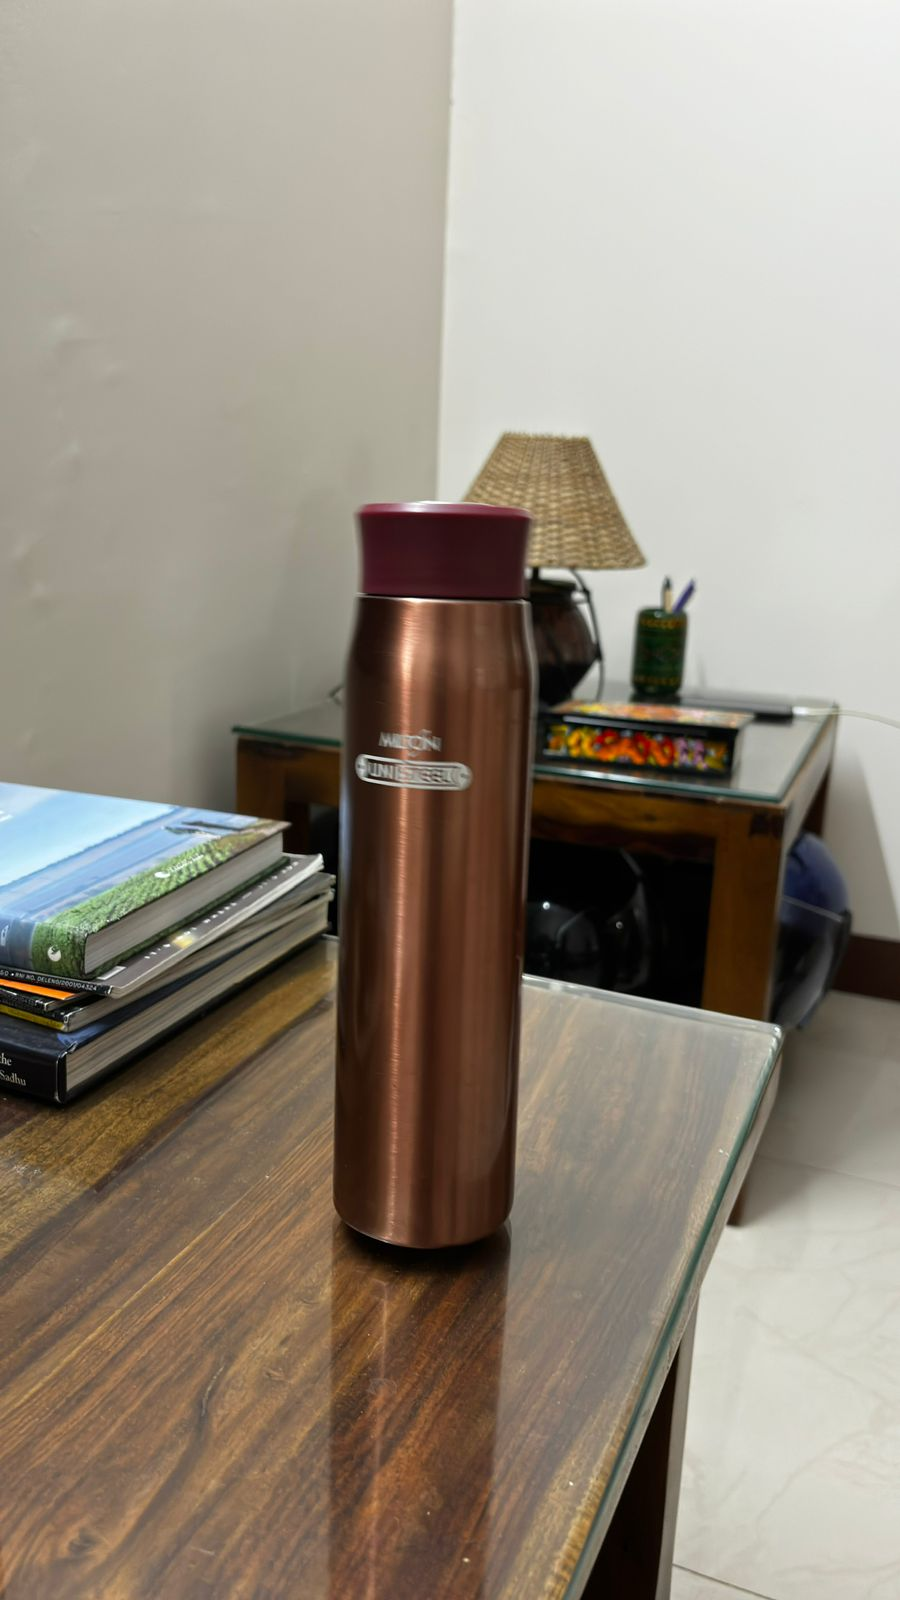bottle: (316, 488, 568, 1265)
